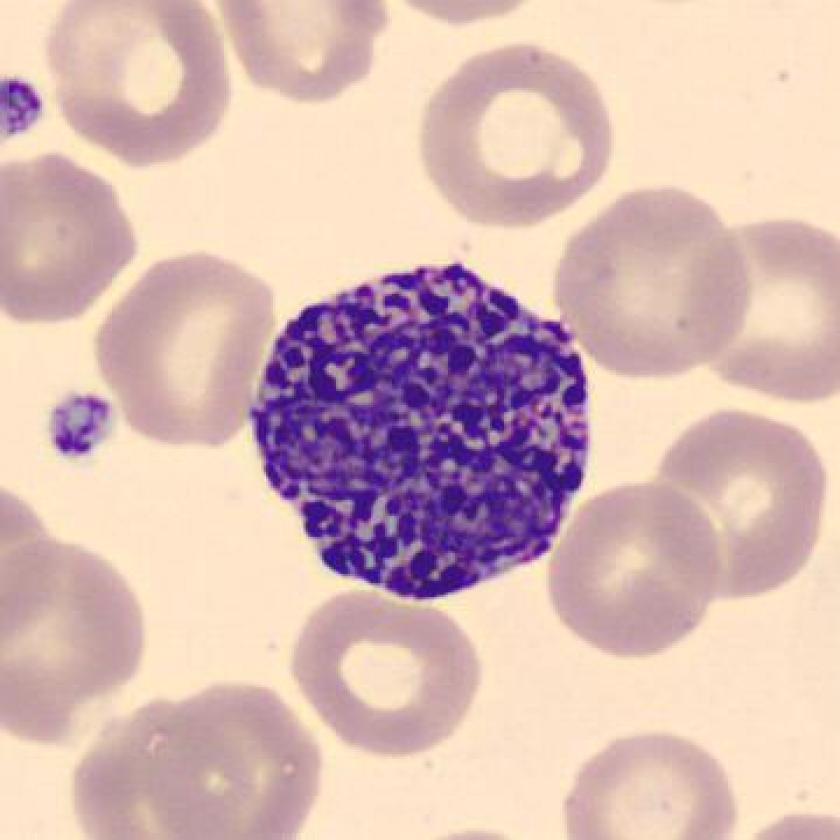basophil: (251, 253, 598, 605)
